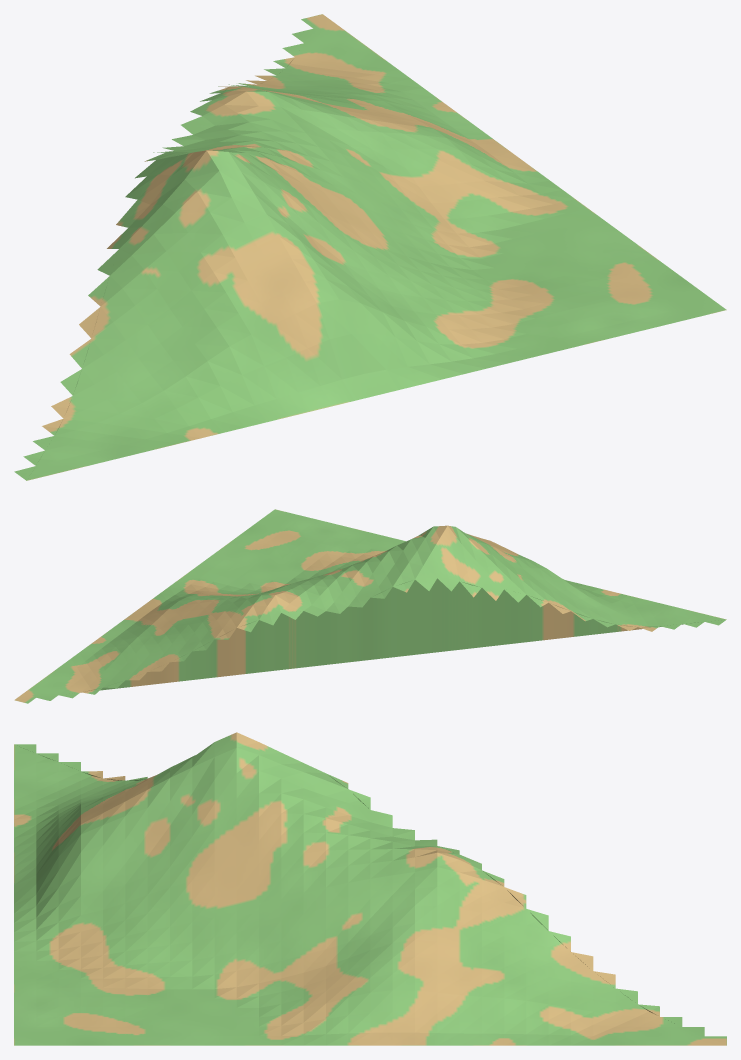
File: Grass_Hills_11_NE.obj
The picture shows the model from 3 angles, top to bottom: view 1: azimuth 30°, elevation 25°; view 2: azimuth 150°, elevation 25°; view 3: azimuth 270°, elevation 25°; orthographic projection. The views are drawn at different scales.
Size of the model in its own units: 10 by 2.23 by 10.
Materials: 1 (1 with a texture image).
